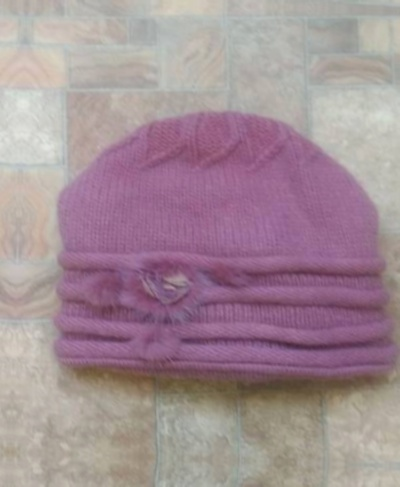Hat: (37, 100, 400, 393)
